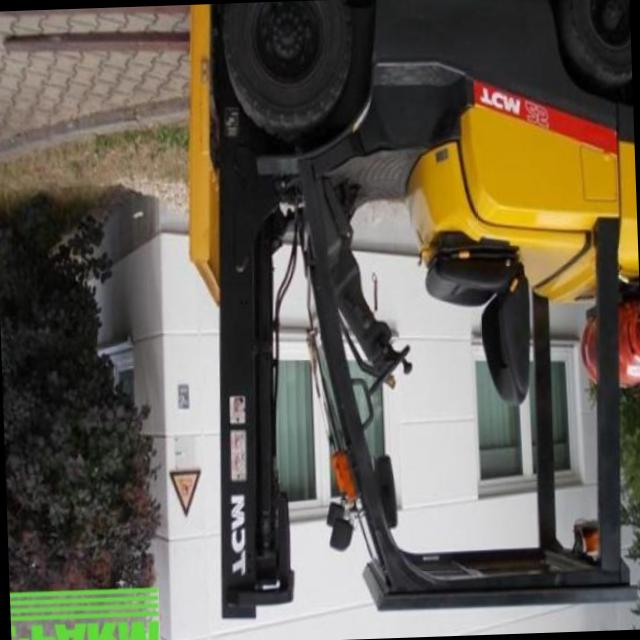forklift: (158, 0, 640, 635)
